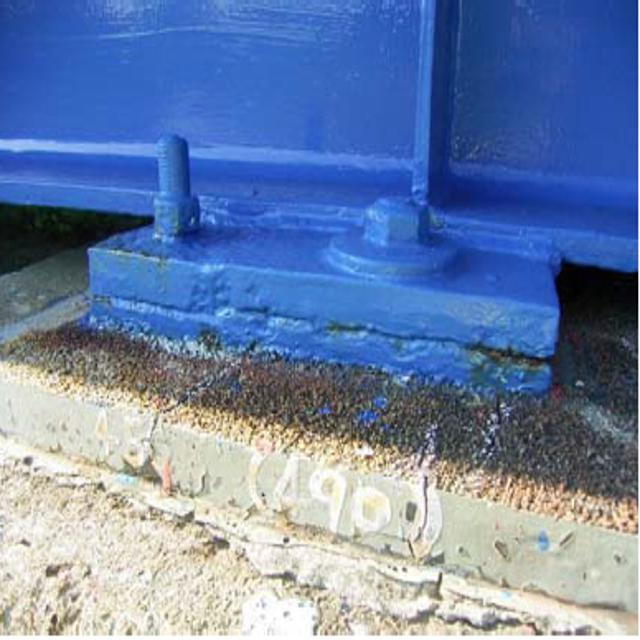corrosion: (23, 286, 631, 524)
